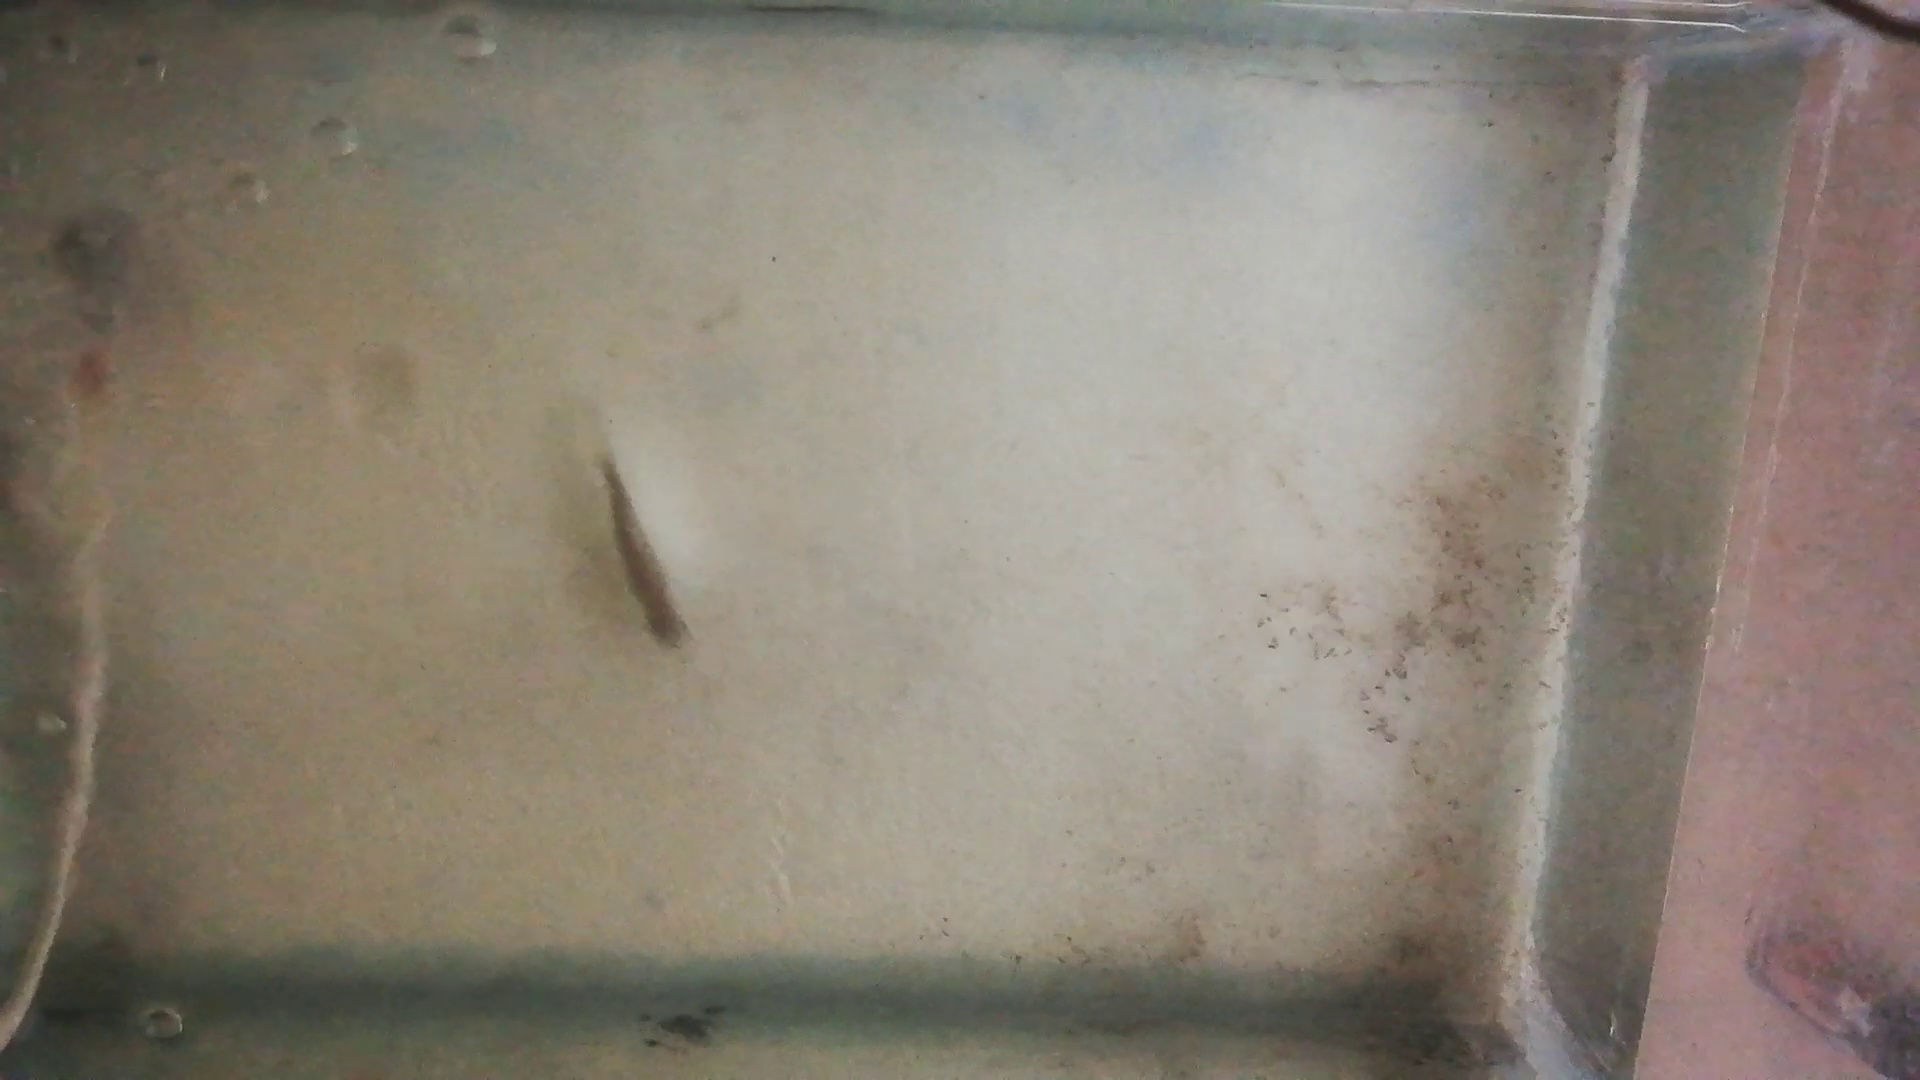fish: (591, 456, 690, 653)
